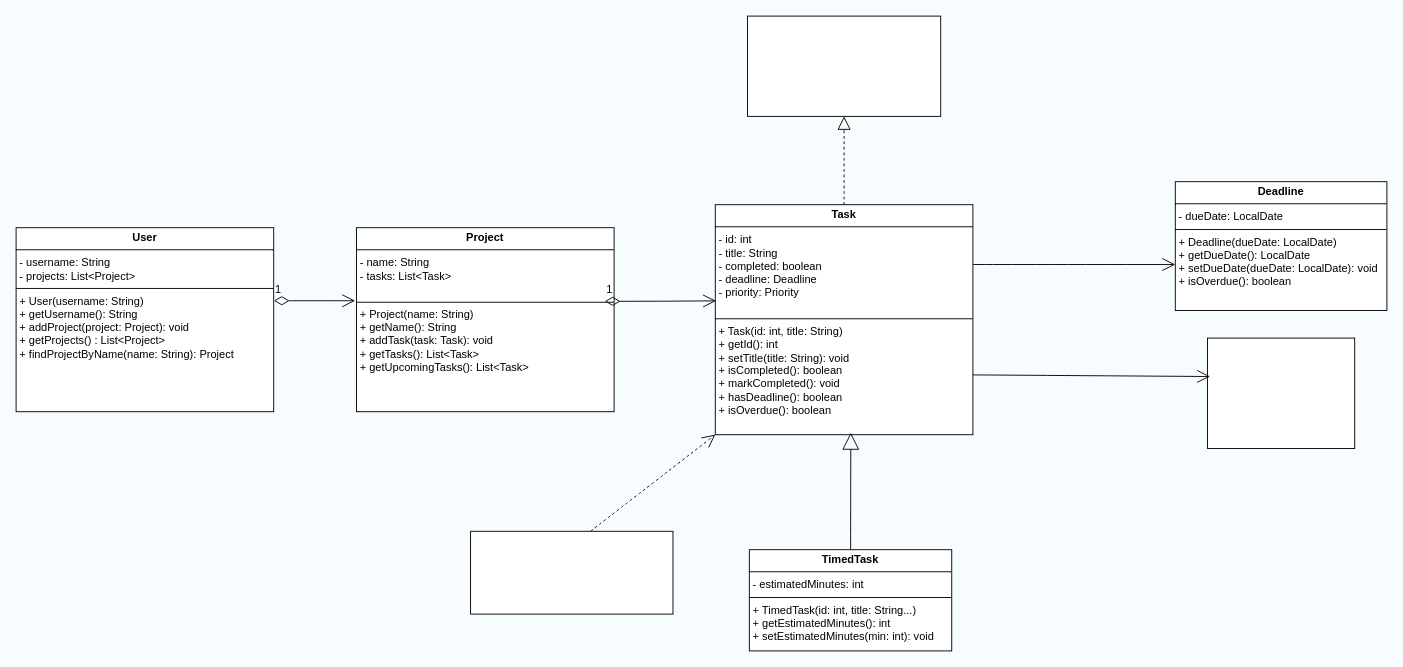
The diagram is 1403 pixels wide and 667 high, and some of its shapes have lost their labels. The shapes that lost their labels are listed below. From the top down, each one's box as (x1, y1, x2, y2) in pixels, then its label:
(747, 15, 941, 116): <<interface>> Completable + markCompleted(): void + isCompleted(): boolean
(1207, 337, 1355, 448): <enumeration>> Priority LOW MEDIUM HIGH
(470, 530, 673, 614): Notification + generateMessage(task: Task): String
